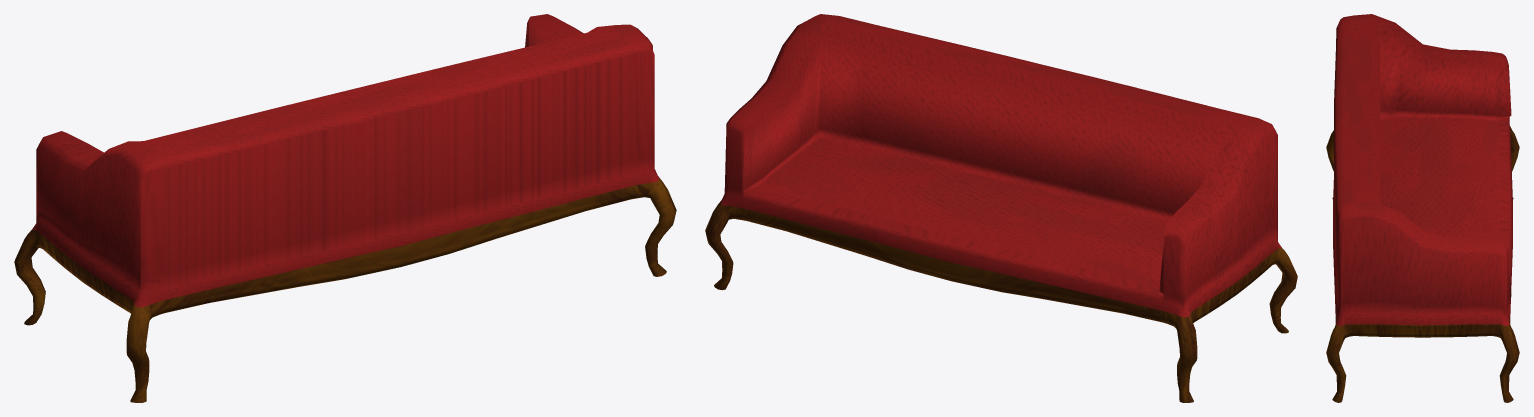
Rendered from sofa.fbx.
3 renders of one model, left to right at view 1: azimuth 30°, elevation 25°; view 2: azimuth 150°, elevation 25°; view 3: azimuth 270°, elevation 25°, orthographic. The views are drawn at different scales.
Parts seen in each view (by area): view 1: chair_dining2; view 2: chair_dining2; view 3: chair_dining2.
Part boxes in pixels (x1,y1,x2,y2): chair_dining2: [14, 14, 676, 402]; chair_dining2: [705, 14, 1297, 402]; chair_dining2: [1326, 14, 1519, 402].
Size of the model in its own units: 266 by 111 by 102.
